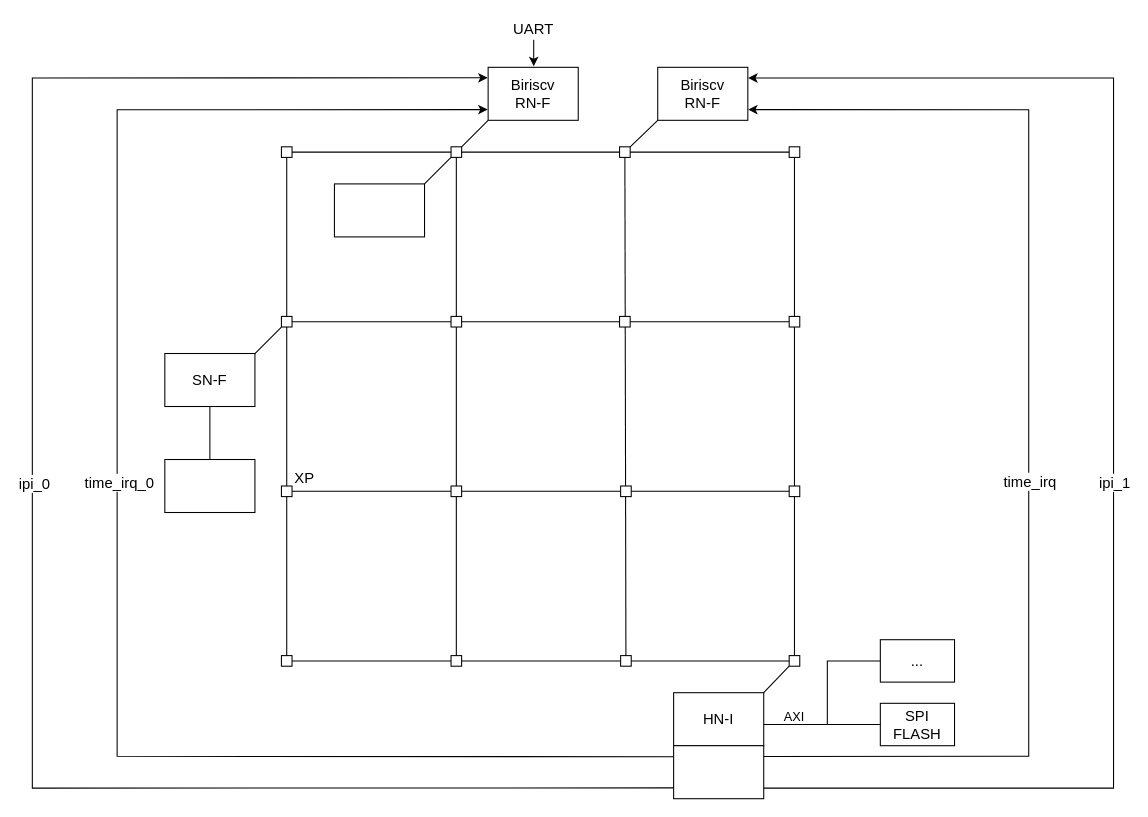
The diagram is 1148 pixels wide and 817 high, and some of its shapes have lost their labels. Each missing label, with the centre of its shape:
"CLINT" goes at [718,772].
"DDR" goes at [209,485].
"HN-F" goes at [379,210].
